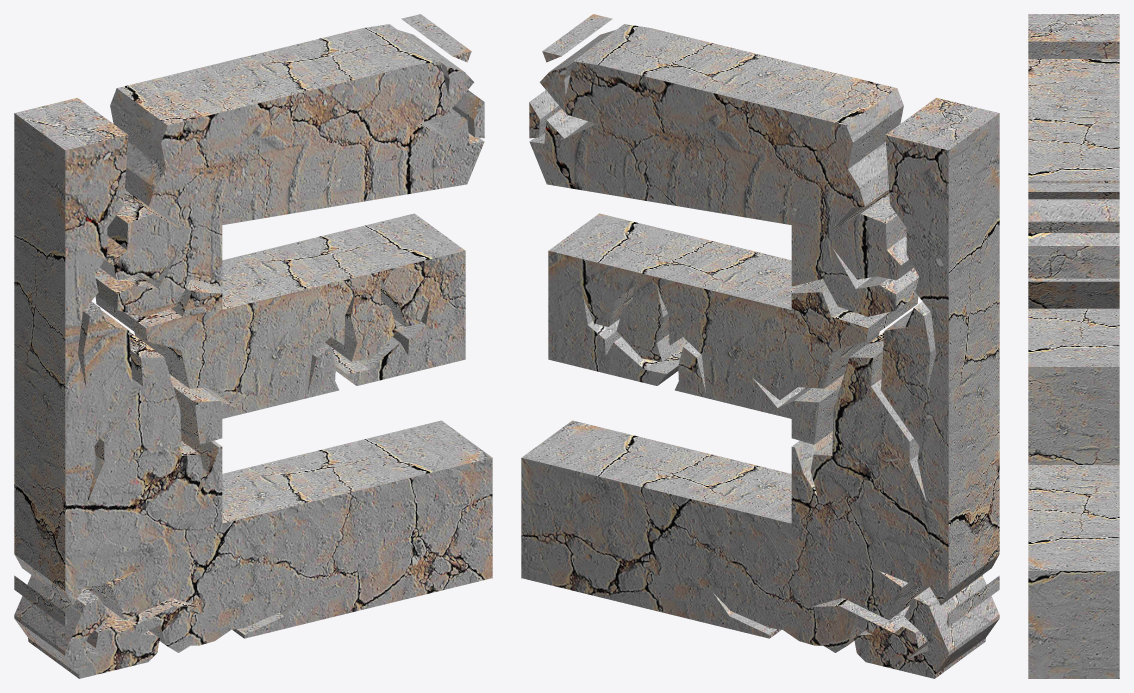
3 renders of one model, left to right at view 1: azimuth 30°, elevation 25°; view 2: azimuth 150°, elevation 25°; view 3: azimuth 270°, elevation 25°, orthographic. The views are drawn at different scales.
Visible parts, largest first — view 1: E; view 2: E; view 3: E.
Boxes of the visible parts, left/top/right/bottom form: E: left=14, top=14, right=492, bottom=678; E: left=521, top=14, right=999, bottom=678; E: left=1028, top=14, right=1119, bottom=678.
Bounding box in the file's own units: 72.59 × 86.36 × 15.
Materials: 1 (1 with a texture image).
